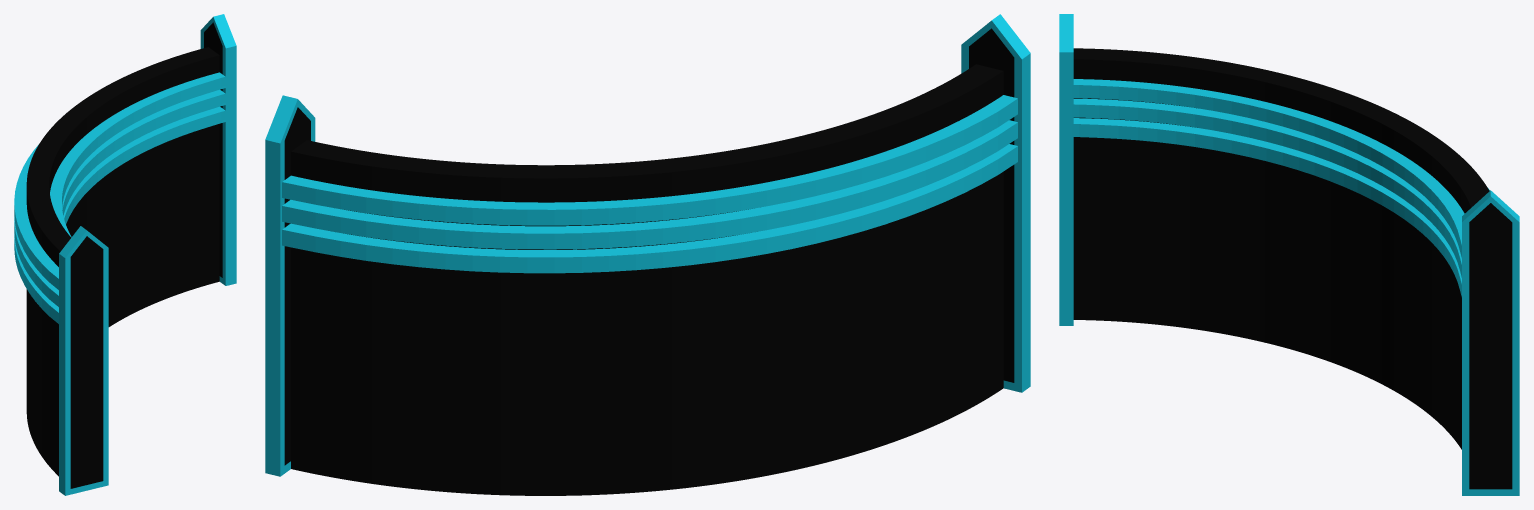
File: WallBow.glb
3 renders of one model, left to right at view 1: azimuth 30°, elevation 25°; view 2: azimuth 150°, elevation 25°; view 3: azimuth 270°, elevation 25°, orthographic. The views are drawn at different scales.
Parts seen in each view (by area): view 1: WallBow.001, Divider.007, Cylinder, Cylinder.001, Cylinder.002, Cube.041, Cube.036, Cube.037, Divider.011, Cube.043, Cube.038, Cube.035; view 2: WallBow.001, Cylinder, Cylinder.002, Cylinder.001, Cube.042, Cube.036, Divider.007, Divider.011, Cube.044; view 3: WallBow.001, Divider.011, Cylinder, Cylinder.001, Cylinder.002, Cube.037, Cube.042, Cube.041, Cube.039.
Boxes of the visible parts, <box> form: WallBow.001: <box>26,47,219,476</box>; Divider.007: <box>70,236,103,488</box>; Cylinder: <box>14,72,225,289</box>; Cylinder.001: <box>14,89,225,306</box>; Cylinder.002: <box>14,106,225,323</box>; Cube.041: <box>222,46,236,280</box>; Cube.036: <box>59,254,70,490</box>; Cube.037: <box>103,247,108,480</box>; Divider.011: <box>204,22,222,277</box>; Cube.043: <box>213,14,236,48</box>; Cube.038: <box>59,226,86,257</box>; Cube.035: <box>59,480,108,495</box>; WallBow.001: <box>291,64,1003,495</box>; Cylinder: <box>282,95,1017,225</box>; Cylinder.002: <box>282,144,1017,273</box>; Cylinder.001: <box>282,120,1017,249</box>; Cube.042: <box>265,140,284,468</box>; Cube.036: <box>1014,53,1030,384</box>; Divider.007: <box>969,28,1014,382</box>; Divider.011: <box>284,107,310,465</box>; Cube.044: <box>265,95,297,143</box>; WallBow.001: <box>1073,48,1489,449</box>; Divider.011: <box>1469,203,1512,489</box>; Cylinder: <box>1071,79,1489,257</box>; Cylinder.001: <box>1071,98,1461,277</box>; Cylinder.002: <box>1071,118,1461,296</box>; Cube.037: <box>1059,52,1073,319</box>; Cube.042: <box>1512,222,1519,489</box>; Cube.041: <box>1462,222,1469,489</box>; Cube.039: <box>1059,14,1073,52</box>.
Bounding box in the file's own units: 6.4 × 4.6 × 6.4.
